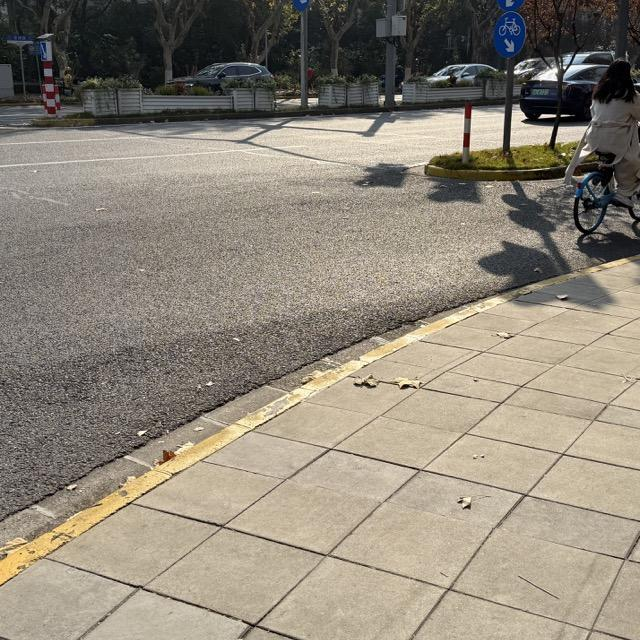curb: (0, 255, 639, 585), (29, 97, 504, 127), (424, 164, 565, 181)
